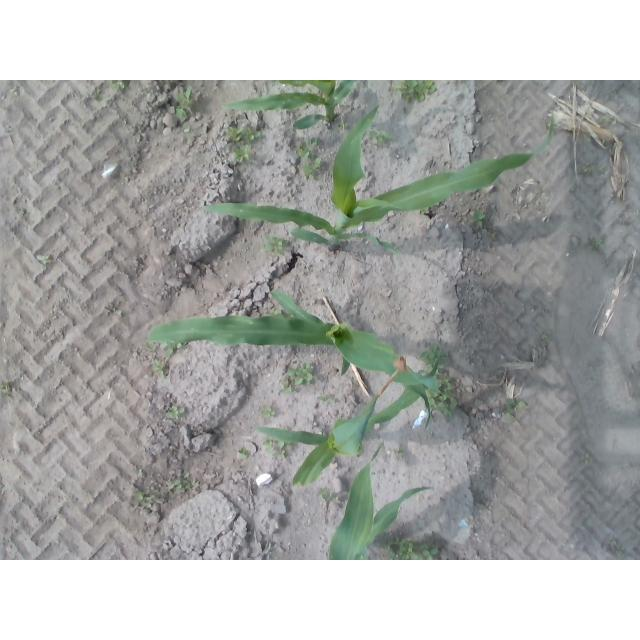Maize: (200, 104, 557, 254), (145, 291, 440, 429), (254, 350, 445, 486), (325, 440, 431, 561), (219, 80, 357, 130)
Weeds: (129, 471, 200, 505), (427, 375, 458, 421), (379, 537, 439, 560), (394, 80, 439, 105), (280, 360, 313, 393), (174, 84, 195, 122), (421, 340, 446, 368), (259, 234, 291, 255), (227, 126, 260, 144), (299, 157, 321, 182), (295, 136, 321, 157), (504, 397, 525, 420), (370, 129, 395, 148), (317, 486, 340, 504), (104, 300, 124, 319), (233, 145, 251, 166), (162, 341, 187, 355), (471, 206, 486, 226), (610, 540, 627, 557), (590, 235, 606, 253), (274, 441, 290, 459), (109, 80, 131, 93), (166, 405, 186, 419), (393, 444, 407, 462), (0, 380, 12, 400), (262, 437, 275, 455), (153, 358, 166, 376), (317, 394, 336, 406), (237, 445, 251, 460), (90, 85, 102, 102), (37, 254, 52, 267), (260, 407, 277, 418), (580, 163, 592, 178), (132, 464, 147, 476), (11, 85, 21, 99), (579, 453, 590, 465), (602, 115, 614, 125), (336, 122, 349, 131), (17, 207, 27, 217), (420, 209, 432, 216), (599, 165, 606, 175), (540, 335, 549, 340)
